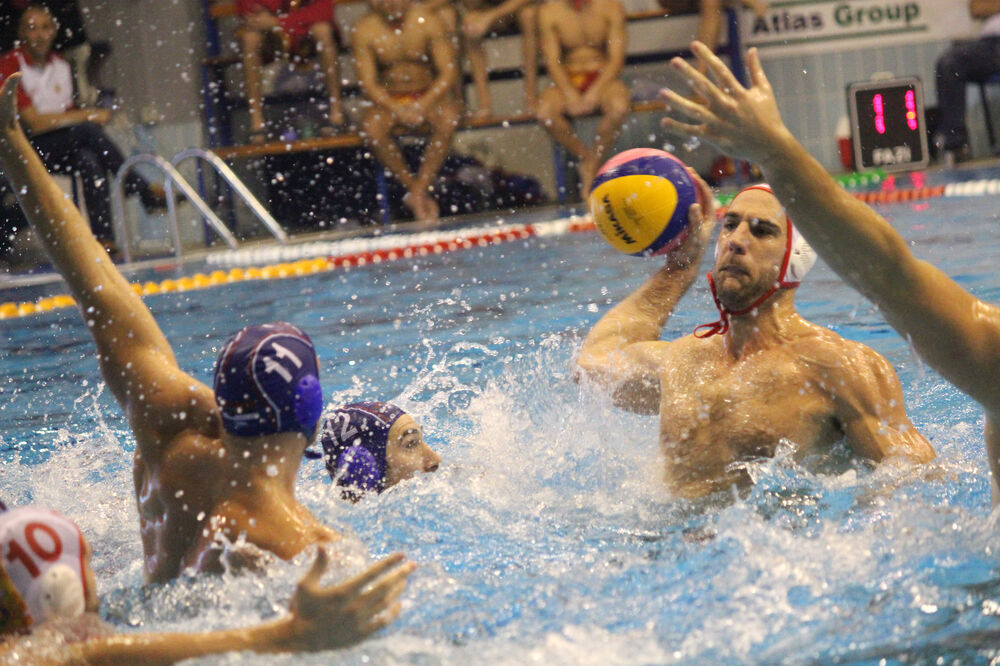ball: (589, 148, 697, 257)
ignore: (663, 38, 1000, 514)
player: (1, 81, 343, 600), (572, 177, 935, 526), (2, 506, 415, 664), (324, 402, 440, 504)
